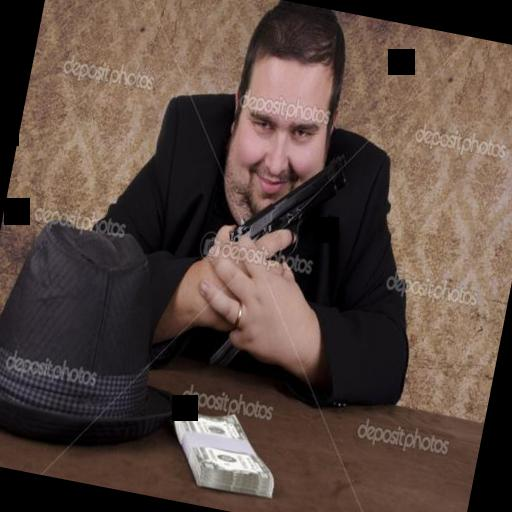Handgun: (212, 151, 340, 291)
